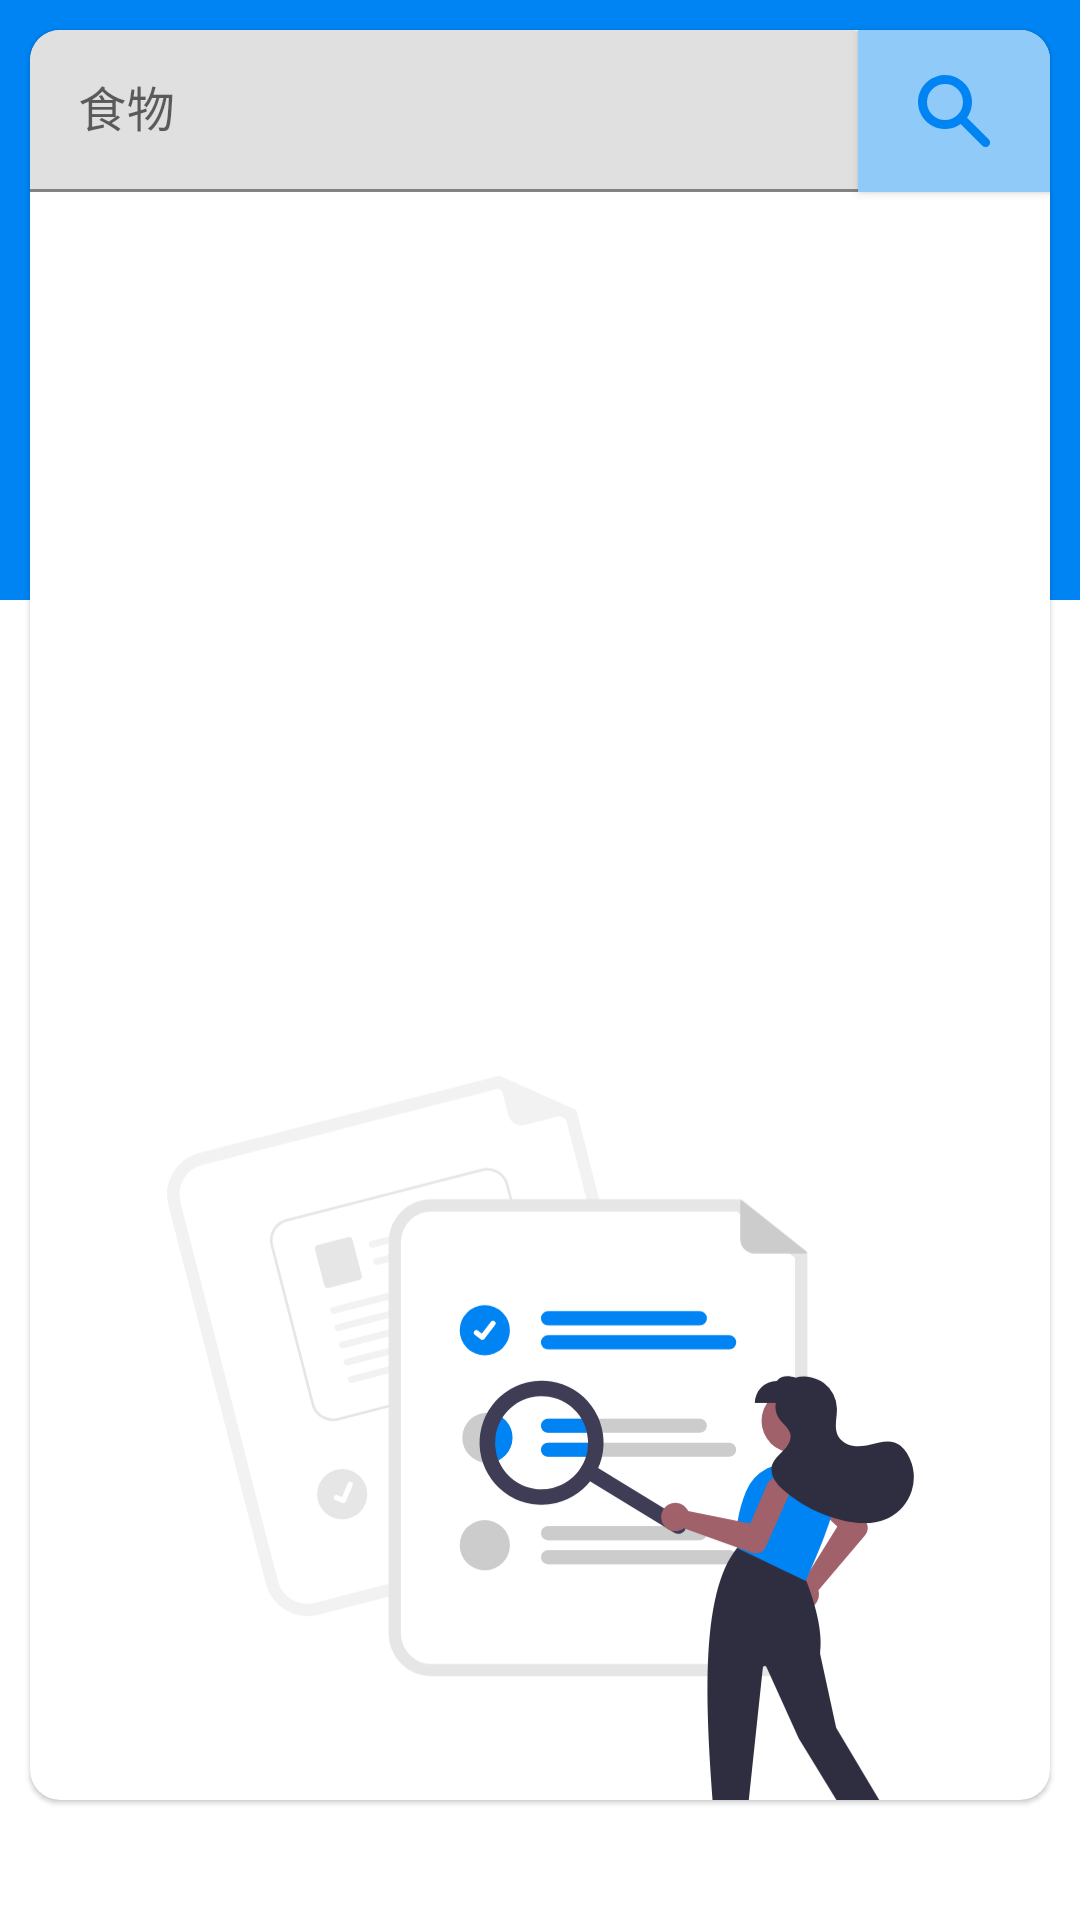

Named icons in this screenshot (1080 × 1920) and their centers, [x,y]:
fluentsearch: [954,111]
